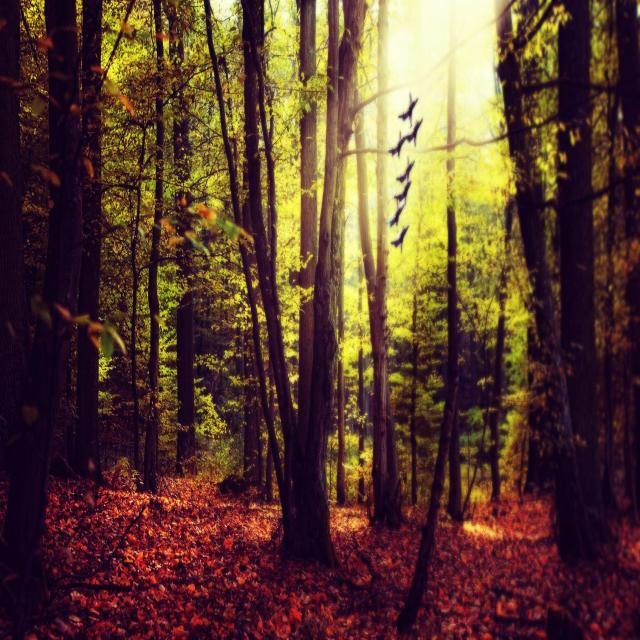airplane: (399, 94, 419, 128), (389, 130, 408, 162), (397, 158, 417, 183), (391, 226, 410, 252), (389, 204, 406, 229), (408, 117, 422, 147), (394, 181, 412, 204)
